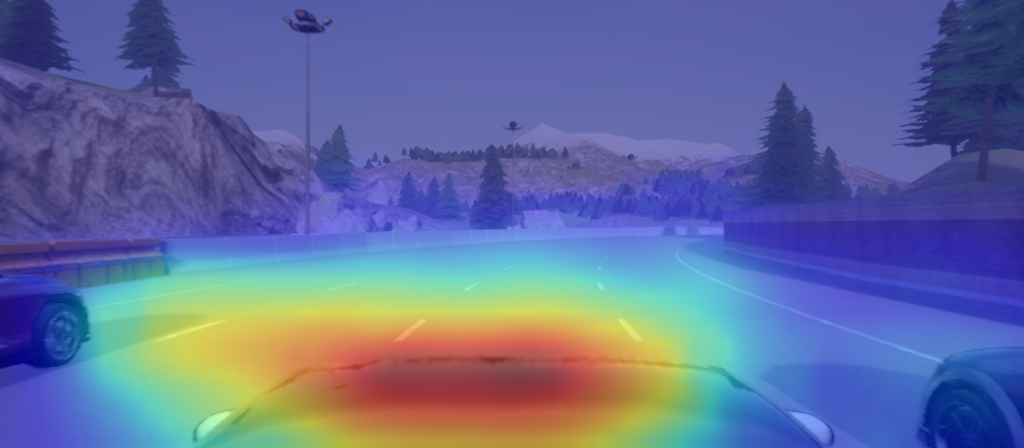Barrier: (722, 212, 1015, 257), (80, 244, 207, 276)
Car: (177, 352, 841, 448), (909, 343, 1024, 448), (1, 258, 95, 382)
Lane Marker: (151, 311, 230, 347), (612, 311, 649, 352), (389, 316, 431, 347), (326, 275, 361, 300), (460, 277, 482, 295), (593, 277, 609, 293)
Light Pole: (275, 5, 337, 237), (500, 116, 527, 228)
